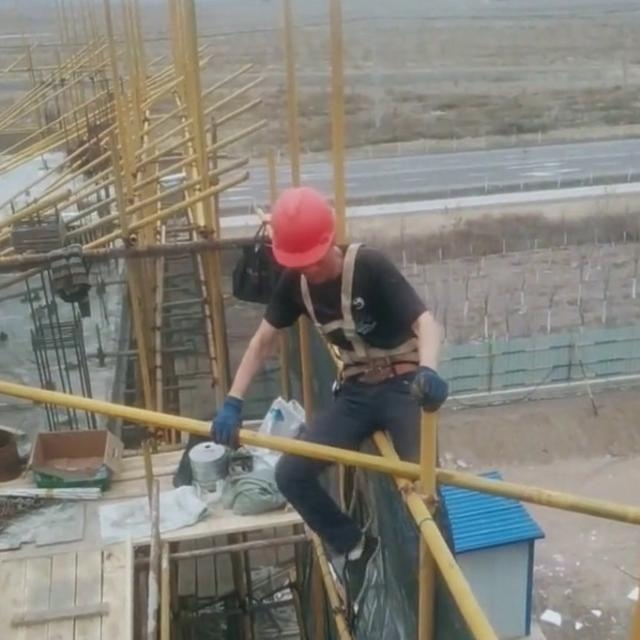Arnes_seguridad: (293, 238, 425, 386)
